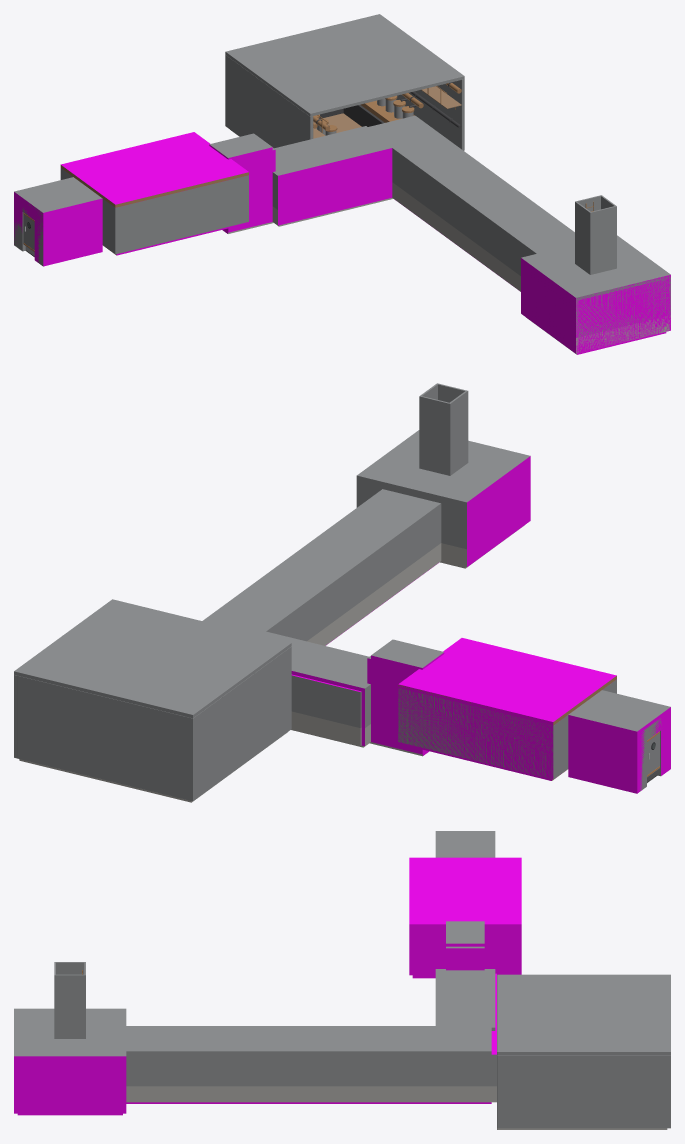
The model's file is l3-drowned.glb.
3 renders of one model, top to bottom at view 1: azimuth 30°, elevation 25°; view 2: azimuth 150°, elevation 25°; view 3: azimuth 270°, elevation 25°, orthographic. The views are drawn at different scales.
Visible parts, largest first — view 1: L3_Shell, COL_L3, FLOOD_Room, L3_Prep, L3_Lock; view 2: FLOOD_Room, L3_Shell, COL_L3, L3_Prep, L3_Lock; view 3: L3_Shell, FLOOD_Room, COL_L3, L3_Lock.
Part boxes in pixels (x1=…): L3_Shell: x1=209, y1=115, x2=670, y2=354; COL_L3: x1=14, y1=132, x2=670, y2=354; FLOOD_Room: x1=225, y1=14, x2=464, y2=150; L3_Prep: x1=60, y1=165, x2=248, y2=255; L3_Lock: x1=14, y1=177, x2=102, y2=266; FLOOD_Room: x1=14, y1=599, x2=291, y2=802; L3_Shell: x1=202, y1=383, x2=530, y2=756; COL_L3: x1=291, y1=456, x2=670, y2=793; L3_Prep: x1=398, y1=676, x2=616, y2=780; L3_Lock: x1=568, y1=690, x2=670, y2=791; L3_Shell: x1=14, y1=921, x2=496, y2=1102; FLOOD_Room: x1=497, y1=974, x2=670, y2=1129; COL_L3: x1=14, y1=857, x2=521, y2=1115; L3_Lock: x1=435, y1=831, x2=495, y2=857.
Size of the model in its own units: 30.4 by 7.8 by 37.4.
